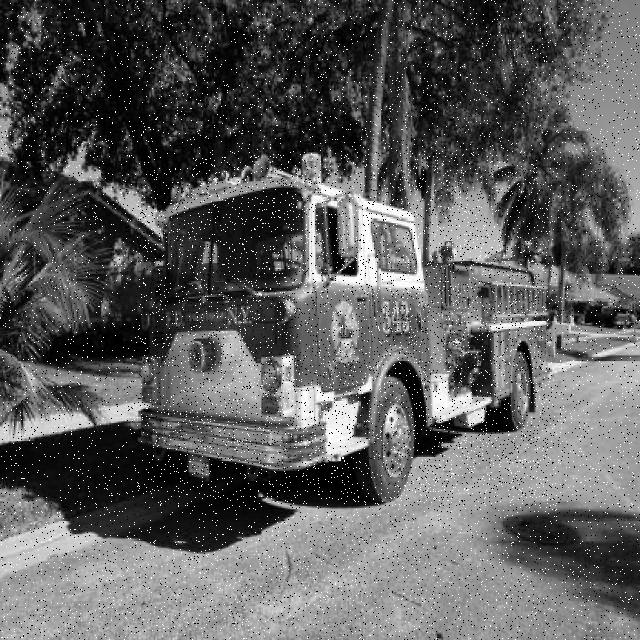Fire Truck: (139, 153, 554, 506)
